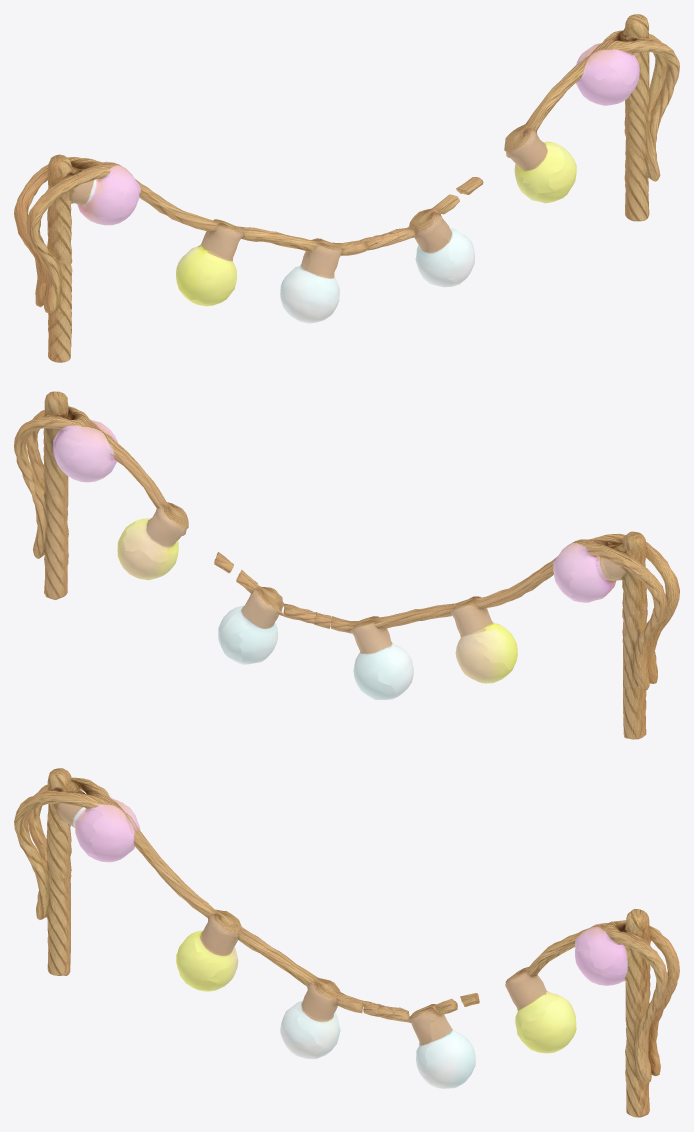
Rendered from s1_gen_garland.glb.
The picture shows the model from 3 angles, top to bottom: view 1: azimuth 30°, elevation 25°; view 2: azimuth 150°, elevation 25°; view 3: azimuth 330°, elevation 25°; orthographic projection.
Bounding box in the file's own units: 1.91 × 0.6301 × 0.1604.
Materials: 1 (1 with a texture image).
